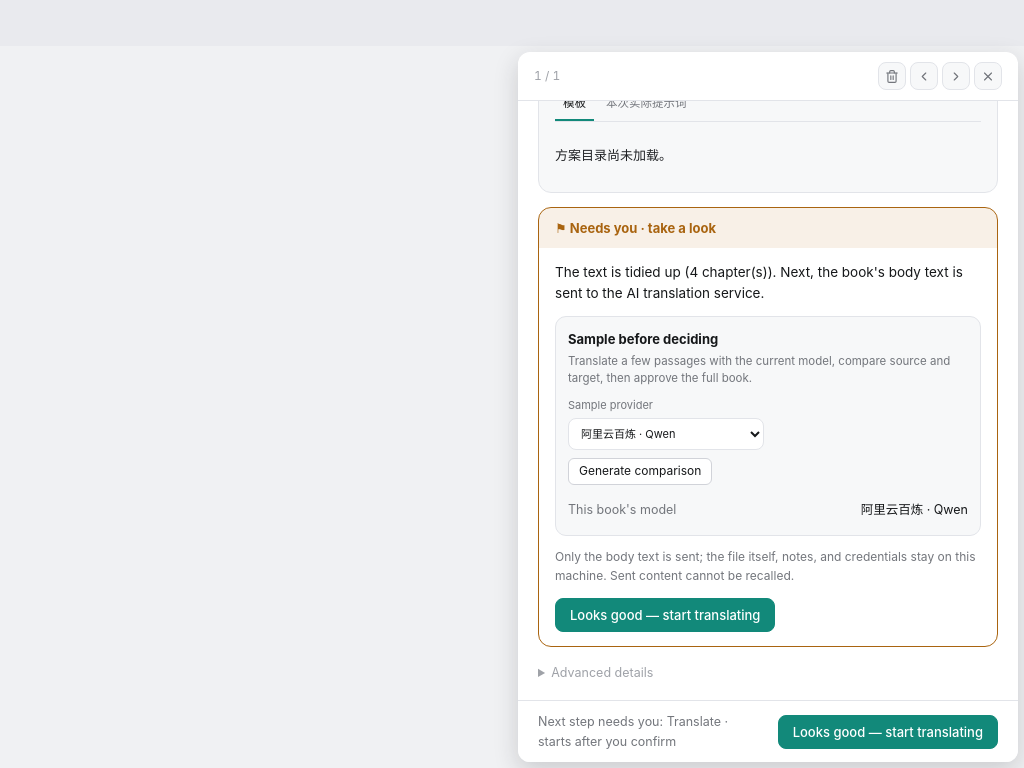
Scenario: BookDrawer sample provider decoupling › warns and offers the adopt action once the picker moves off it
(page scrolled)
Step 1. Select "Kimi · Moonshot" in the dropdown labelled "Sample provider" → (666, 434), box [568,418,764,450]
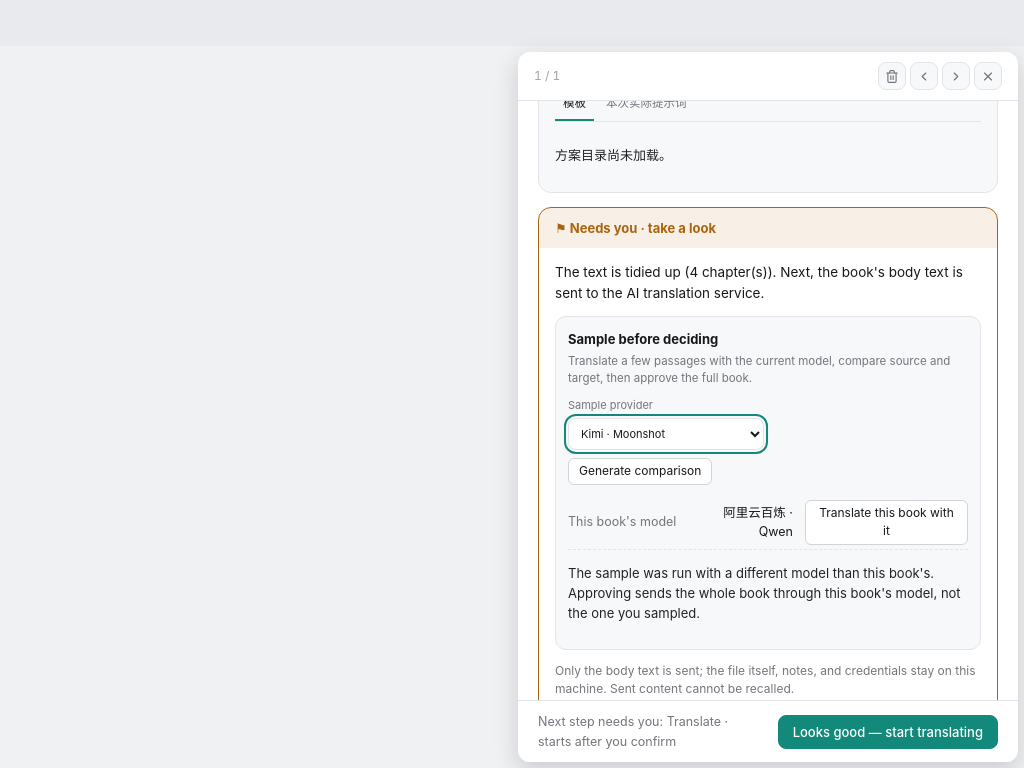
Now the text "The sample was run with a different model than this book's. Approving sends the whole book through this book's model, no" is shown, box [568,565,961,622]
Now the button "Translate this book with it" is shown, box [805,500,968,545]
